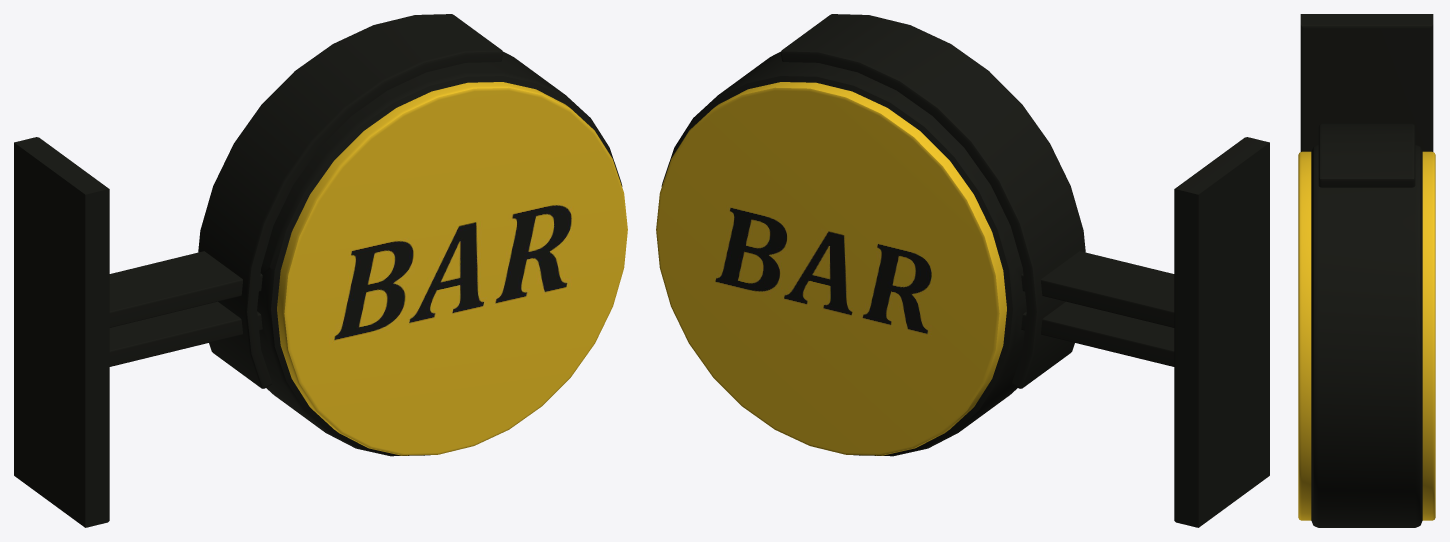
File: Sign1_1.fbx
3 views of the same model, side by side, from view 1: azimuth 30°, elevation 25°; view 2: azimuth 150°, elevation 25°; view 3: azimuth 270°, elevation 25° (orthographic). The views are drawn at different scales.
Visible parts, largest first — view 1: Sign1; view 2: Sign1; view 3: Sign1.
Boxes of the visible parts, x1,y1,x2,y2 form: Sign1: (14, 14, 627, 527); Sign1: (656, 14, 1269, 527); Sign1: (1298, 14, 1435, 527).
Bounding box in the file's own units: 0.0306 × 0.021 × 0.00715.
Materials: 1 (1 with a texture image).
